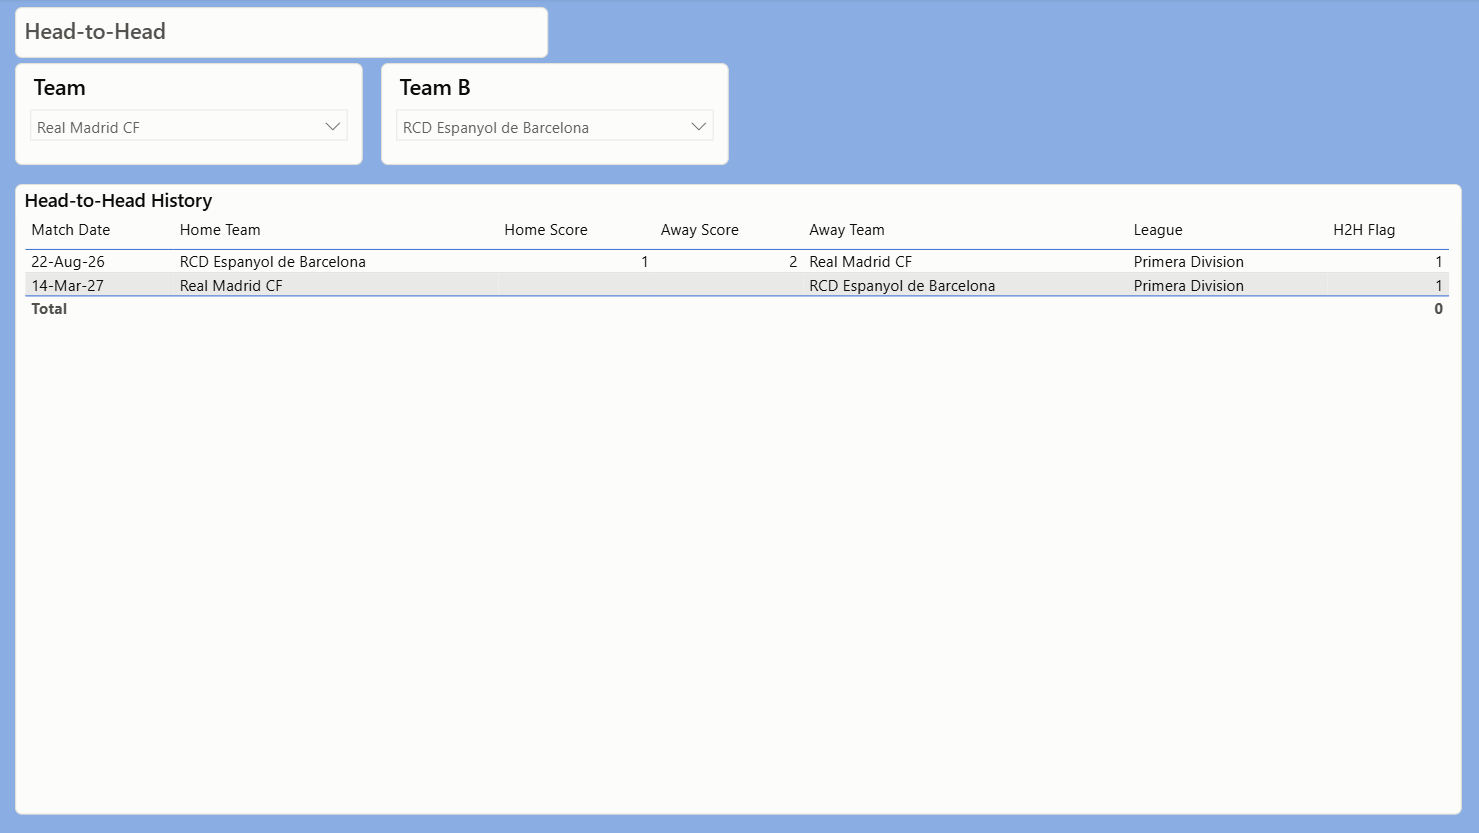

Layout of this report page (visuals, bound fields, positions):
{"tool":"powerbi","page":{"name":"Head-to-Head","canvas":[1280,720],"ordinal":3},"visuals":[{"type":"slicer","fields":{"Values":["Team Select.Team"]},"box":[16,56,300,88],"z":0},{"type":"slicer","fields":{"Values":["Team B Select.Team B"]},"box":[332,56,300,88],"z":1},{"type":"tableEx","title":"Head-to-Head History","fields":{"Values":["public fact_matches.Match Date","public fact_matches.Home Team","public fact_matches.Home Score","public fact_matches.Away Score","public fact_matches.Away Team","public fact_matches.League","Team Select.H2H Flag"]},"box":[16,160,1248,544],"z":2},{"type":"textbox","box":[16,8,460,44],"z":3}]}

Visuals, with their boxes in screenshot pixels (x1, y1, x2, y2), scaled from the page's 1280x720 canvas onto the 1479x833 screenshot:
slicer - Team Select.Team: BBox(18, 65, 365, 167)
slicer - Team B Select.Team B: BBox(384, 65, 730, 167)
"Head-to-Head History" tableEx: BBox(18, 185, 1461, 814)
textbox: BBox(18, 9, 550, 60)
